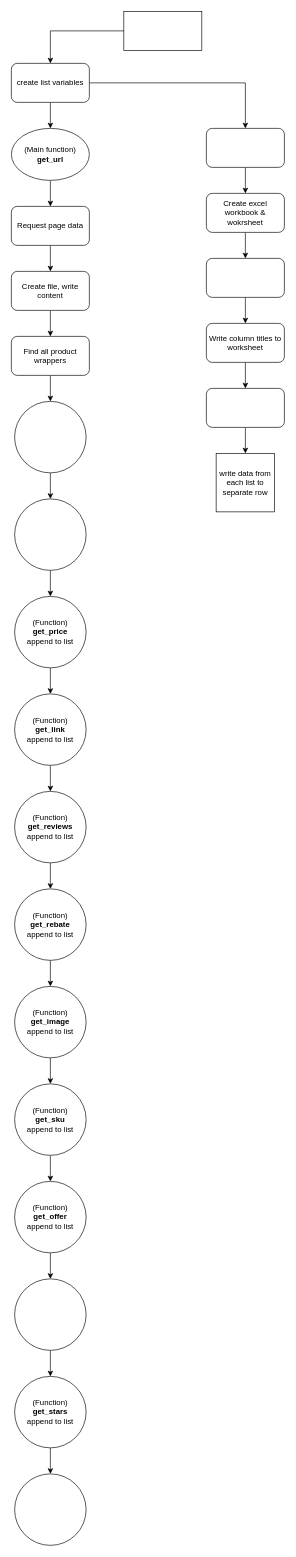
The diagram is 296 pixels wide and 1557 high, and some of its shapes have lost their labels. Each missing label, with the centre of its shape:
(Function) get_availability append to list: point (50, 1314)
(Function) get_manufacturer append to list: point (50, 437)
(Function) get_model append to list: point (50, 534)
call all functions: point (50, 1509)
Call get_url x4 pass new URL each time: point (245, 147)
For loop: point (245, 407)
Import packages: point (162, 30)
Set column widths: point (245, 277)
